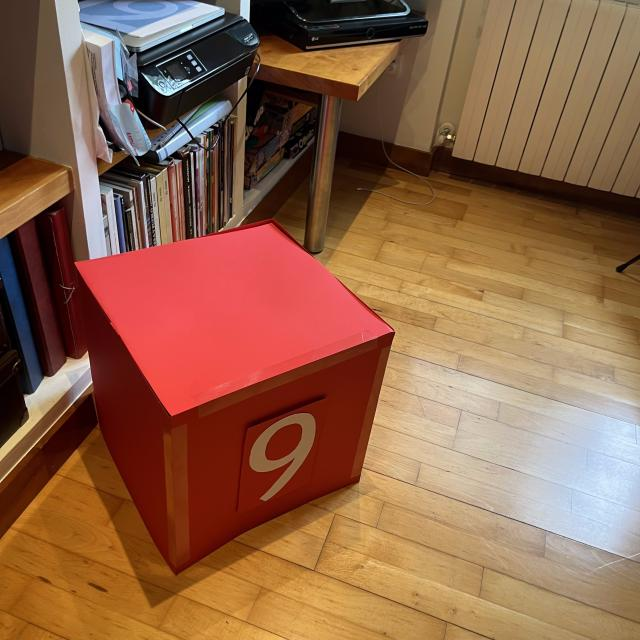box: (72, 216, 397, 574)
